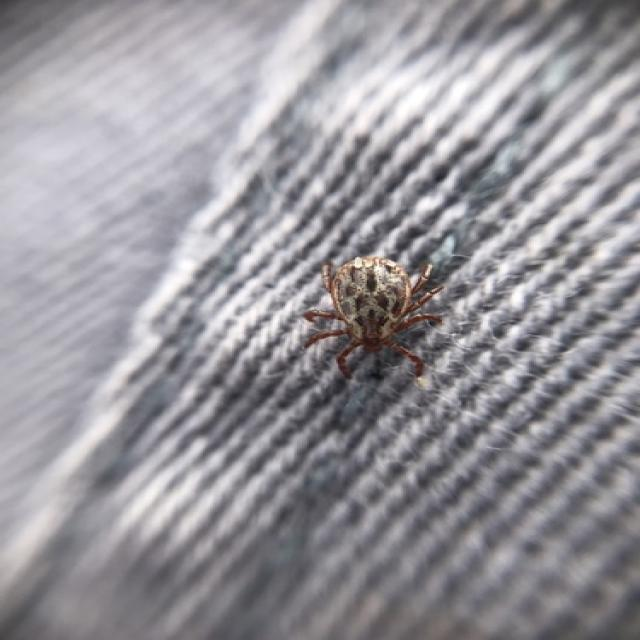Dermacentor Reticulatus-M: (302, 256, 444, 380)
